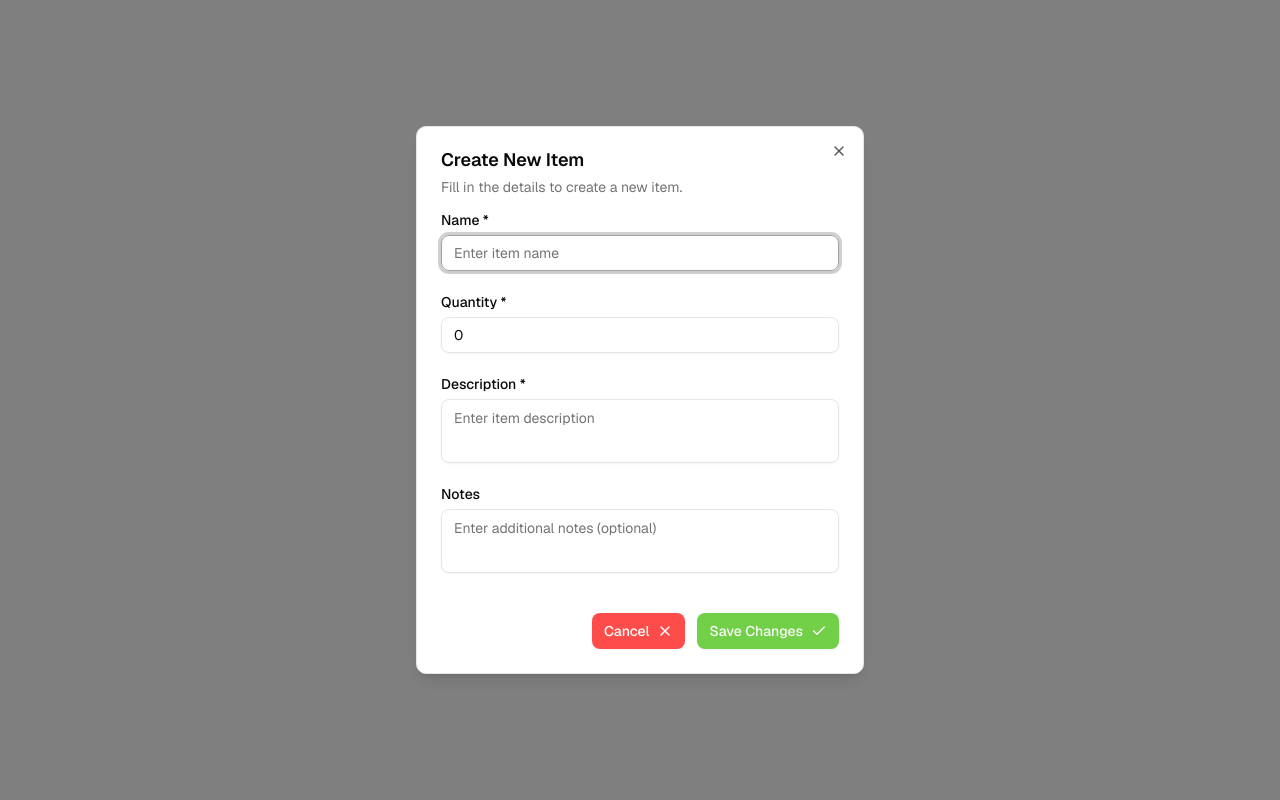
ItemDialog › Create Mode › should validate required fields
The width and height of the screenshot is (1280, 800).
Click the button "Save Changes". click: (768, 631)
box: left=697, top=613, right=839, bottom=649
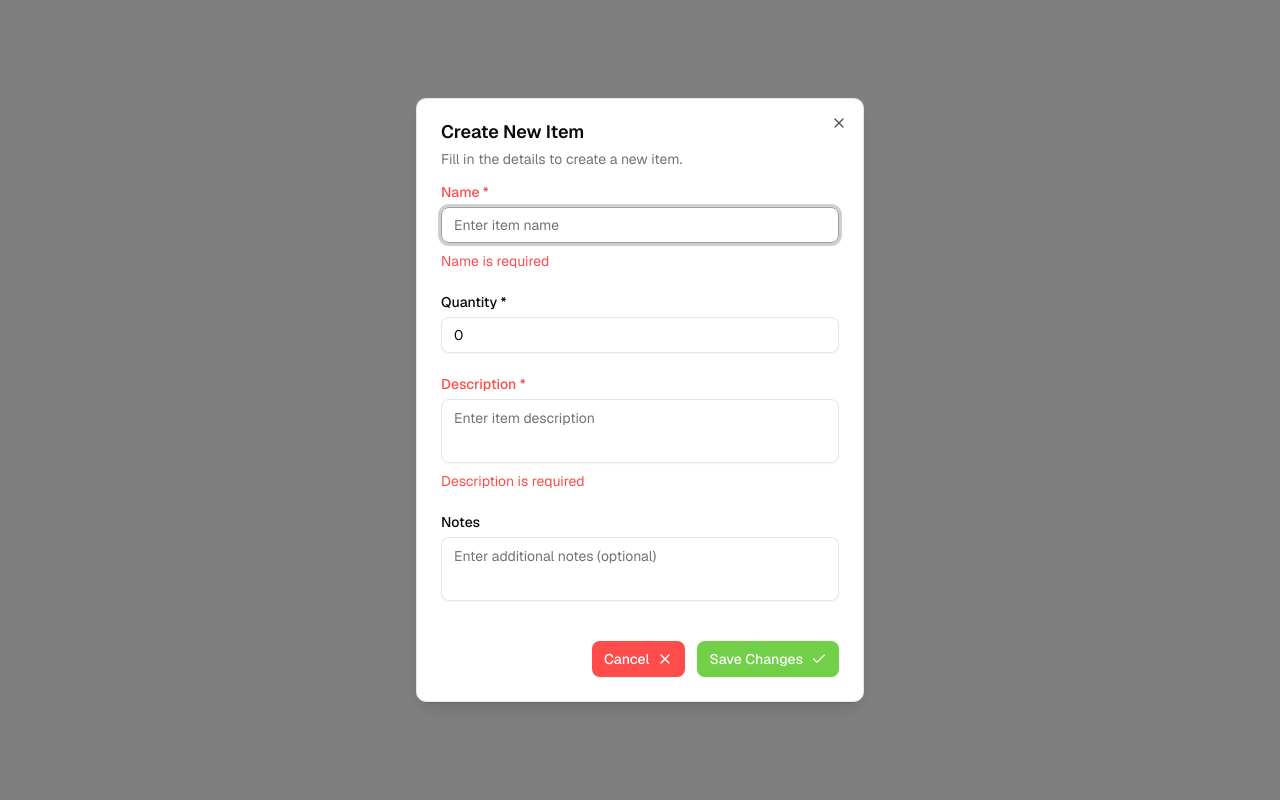
Now the text "Name is required" is shown, box left=441, top=252, right=549, bottom=270
Now the text "Description is required" is shown, box left=441, top=472, right=585, bottom=490
